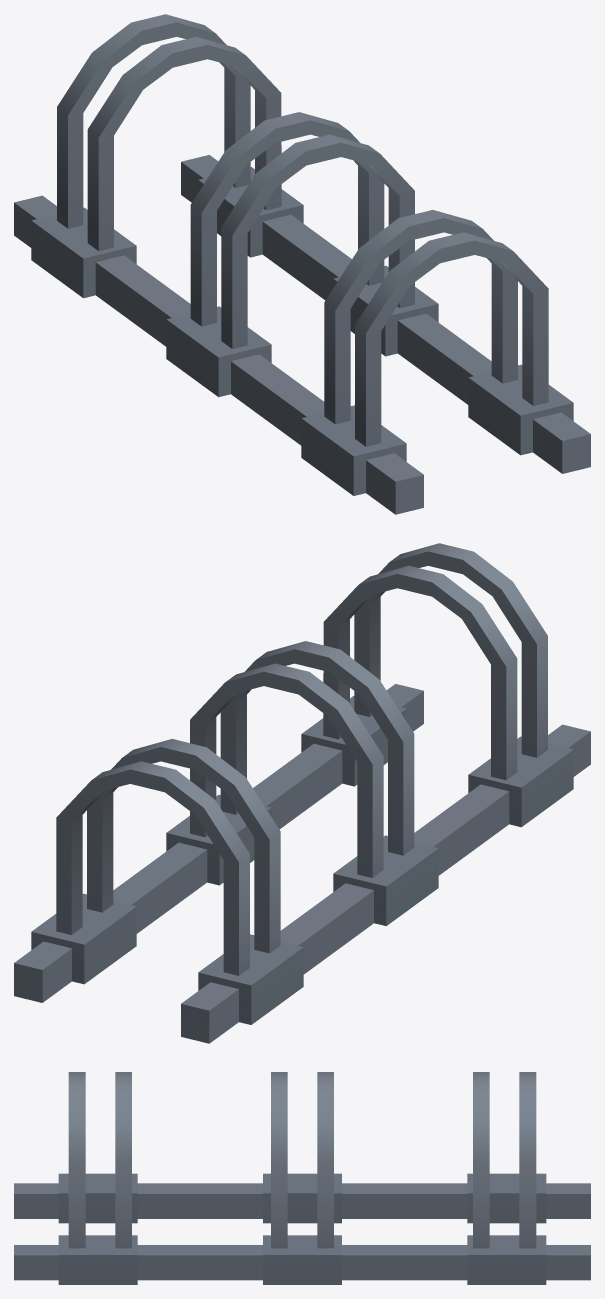
File: BikePlace.fbx
3 renders of one model, top to bottom at view 1: azimuth 30°, elevation 25°; view 2: azimuth 150°, elevation 25°; view 3: azimuth 270°, elevation 25°, orthographic. The views are drawn at different scales.
Parts seen in each view (by area): view 1: BikePlace; view 2: BikePlace; view 3: BikePlace.
Boxes of the visible parts, x1,y1,x2,y2 form: BikePlace: (14, 14, 590, 514); BikePlace: (14, 543, 590, 1043); BikePlace: (14, 1072, 590, 1284).
Size of the model in its own units: 57.74 by 55.08 by 173.
